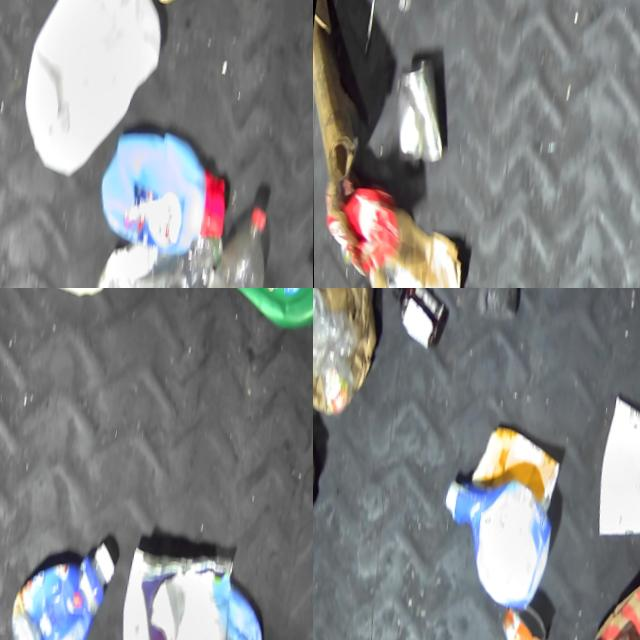can: (385, 51, 451, 169), (497, 594, 547, 640)
milk_jug: (14, 0, 171, 187)
non_white_jug: (92, 112, 232, 258), (2, 520, 117, 640)
plastic_bottle: (166, 181, 274, 288)
